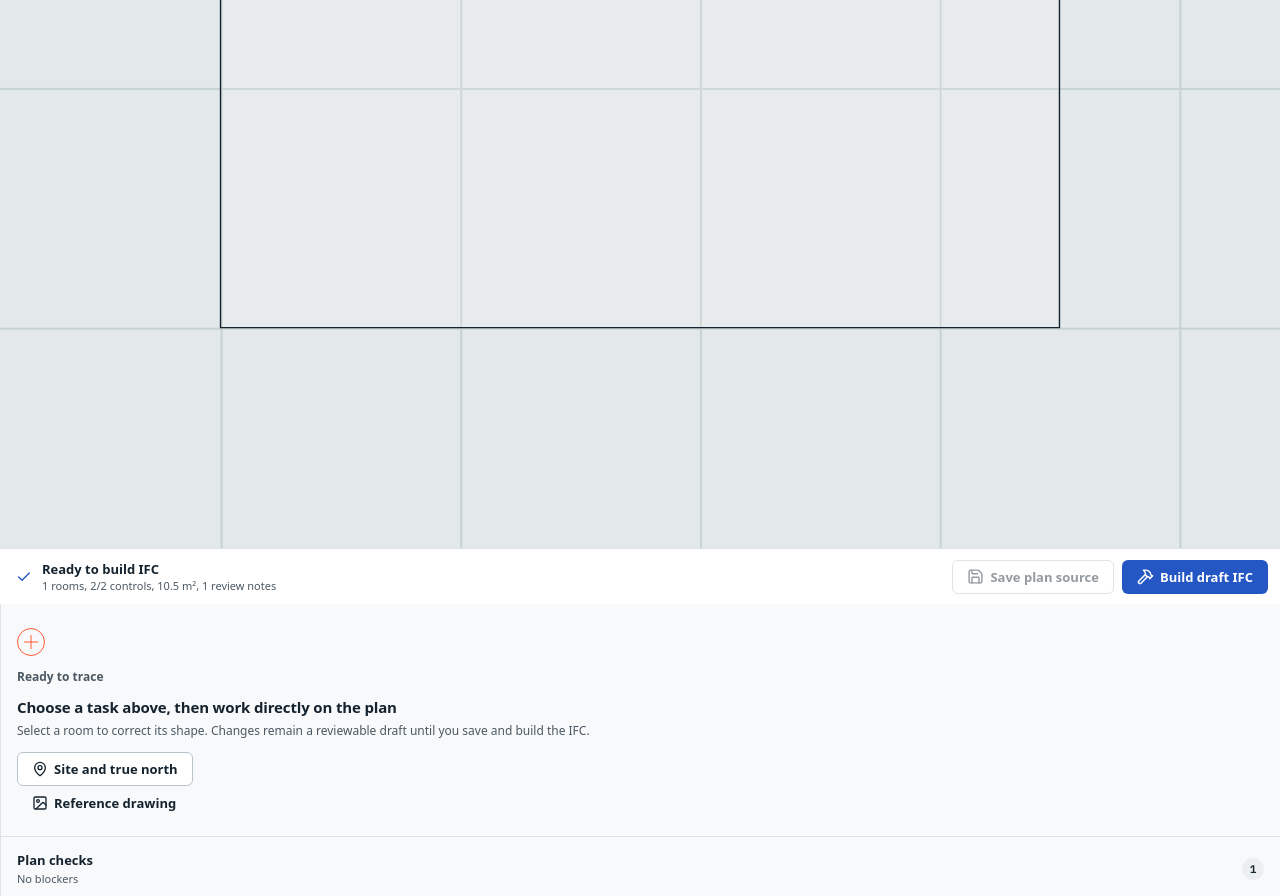
TraceWorkspace › saves an edited site block under the current plan revision, then builds
(page scrolled)
Click the button "Site and true north".
click(105, 769)  # box [17, 752, 193, 786]
(page scrolled)
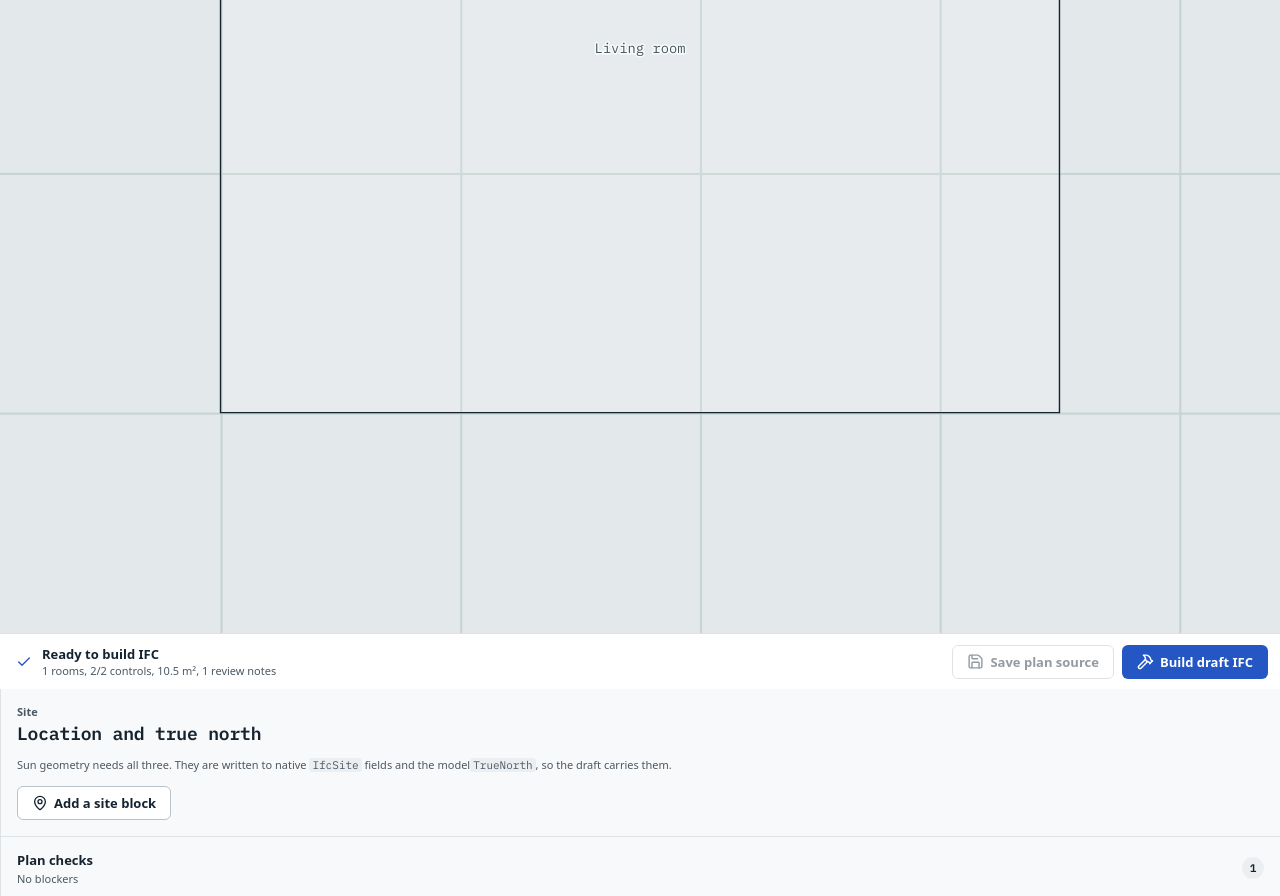
expect the button "Save plan source" is disabled: met, box [952, 645, 1114, 679]
Click the button "Add a site block".
click(94, 802)  # box [17, 786, 171, 820]
(page scrolled)
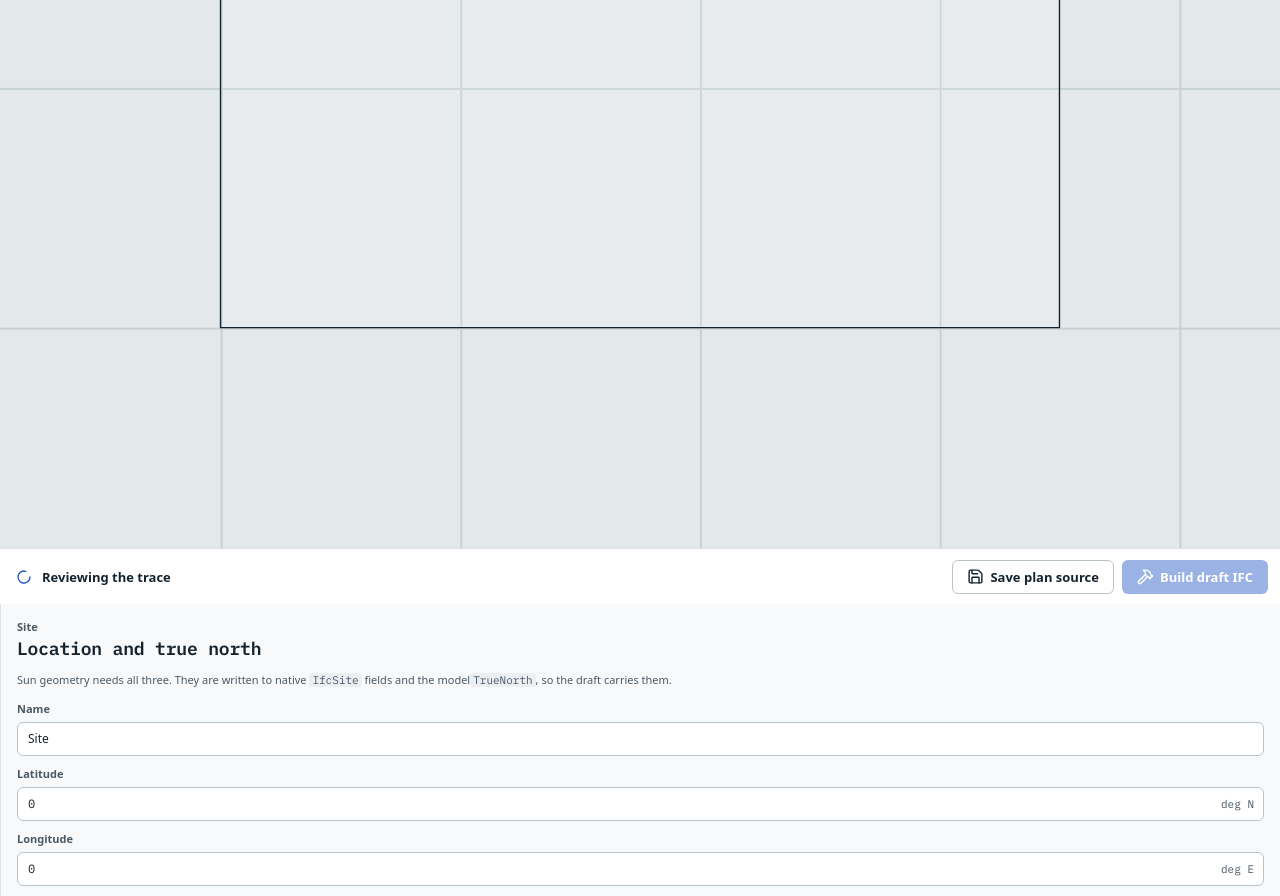
Replace the text in the number field labelled "Latitude deg N" with "51.5" at (640, 804), box [17, 786, 1264, 820]
Replace the text in the number field labelled "Longitude deg E" with "7.25" at (640, 868), box [17, 852, 1264, 886]
(page scrolled)
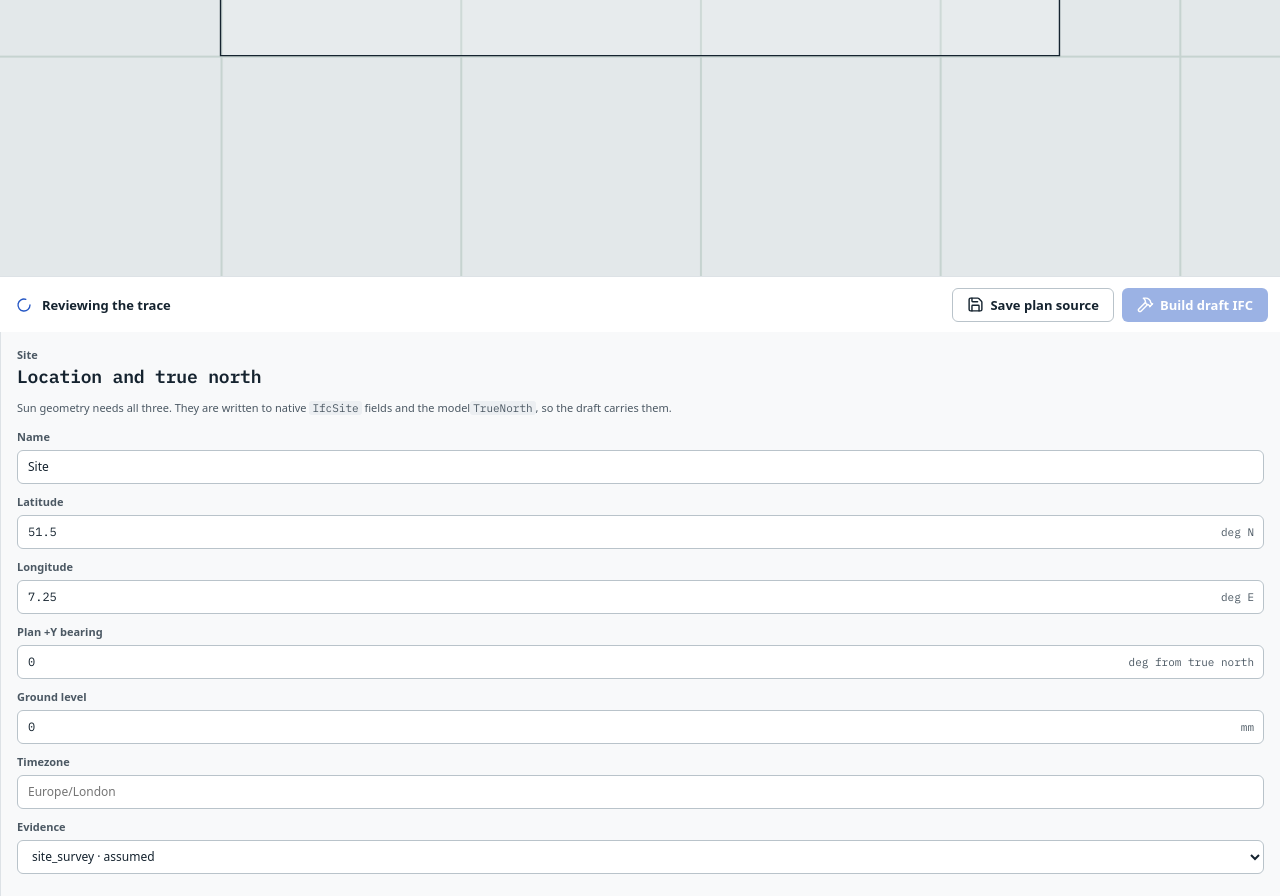
Replace the text in the number field labelled "Plan +Y bearing deg from true north" with "12" at (640, 662), box [17, 644, 1264, 678]
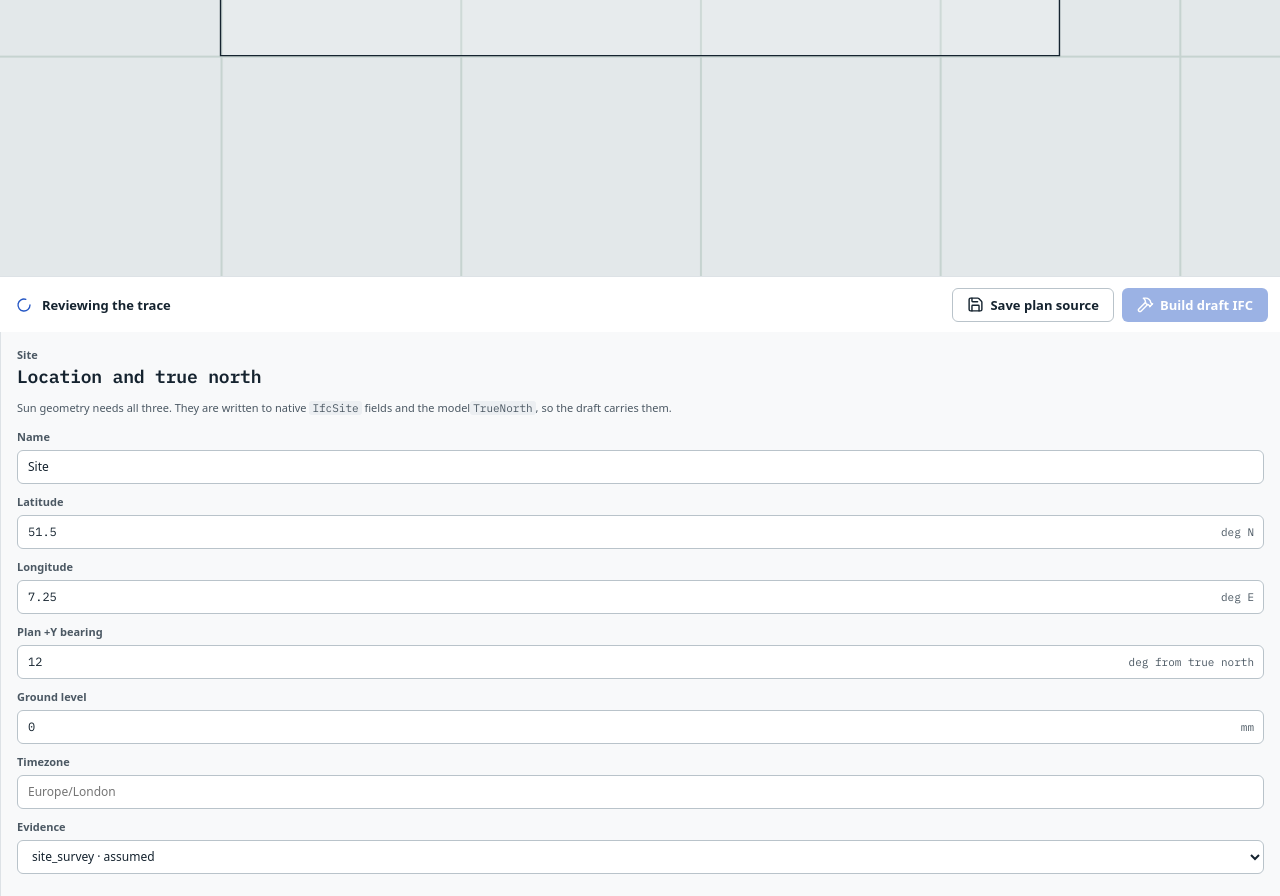
expect the button "Save plan source" is enabled: met
Click the button "Save plan source".
click(1033, 305)  # box [952, 288, 1114, 322]
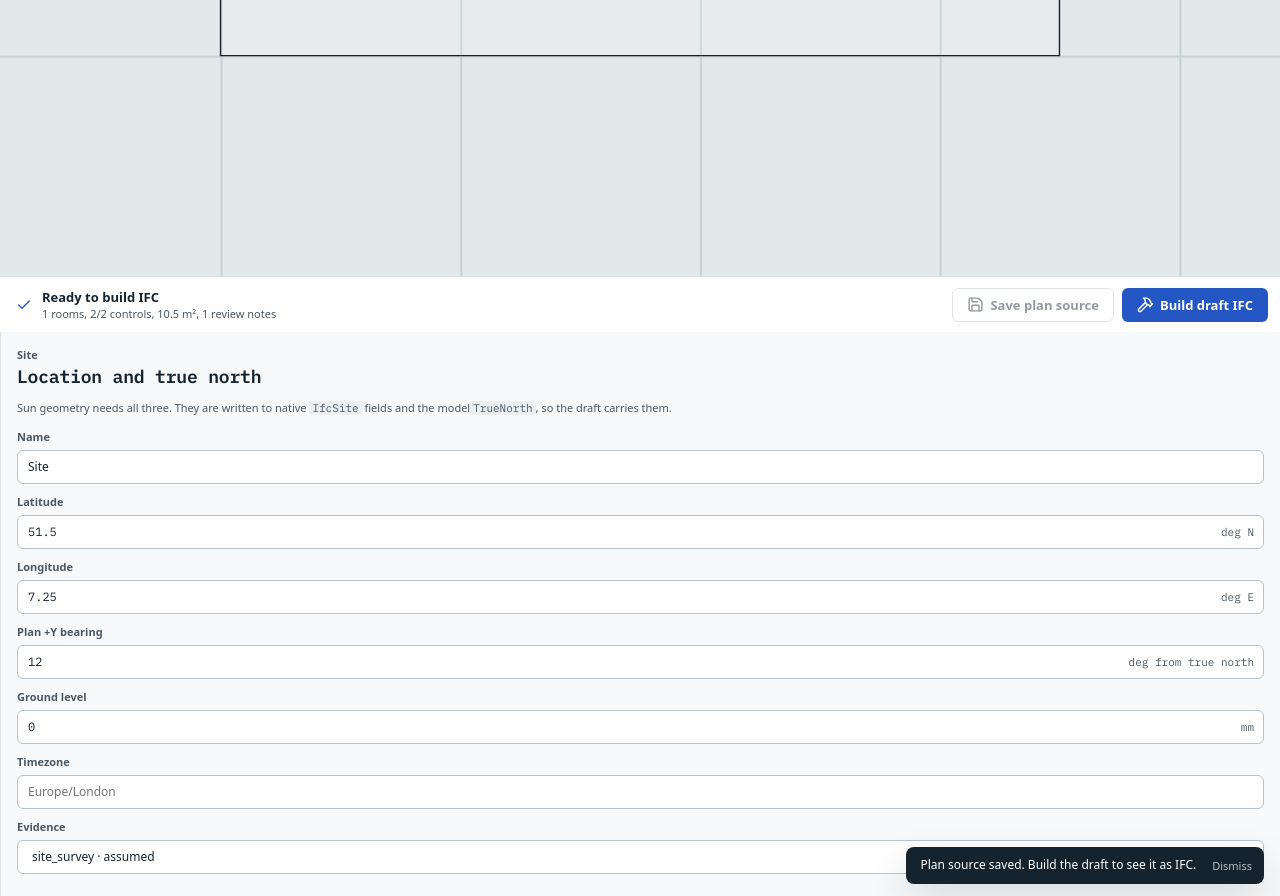
expect the button "Build draft IFC" is enabled: met
Click the button "Build draft IFC".
click(1195, 305)  # box [1122, 288, 1268, 322]
(page scrolled)
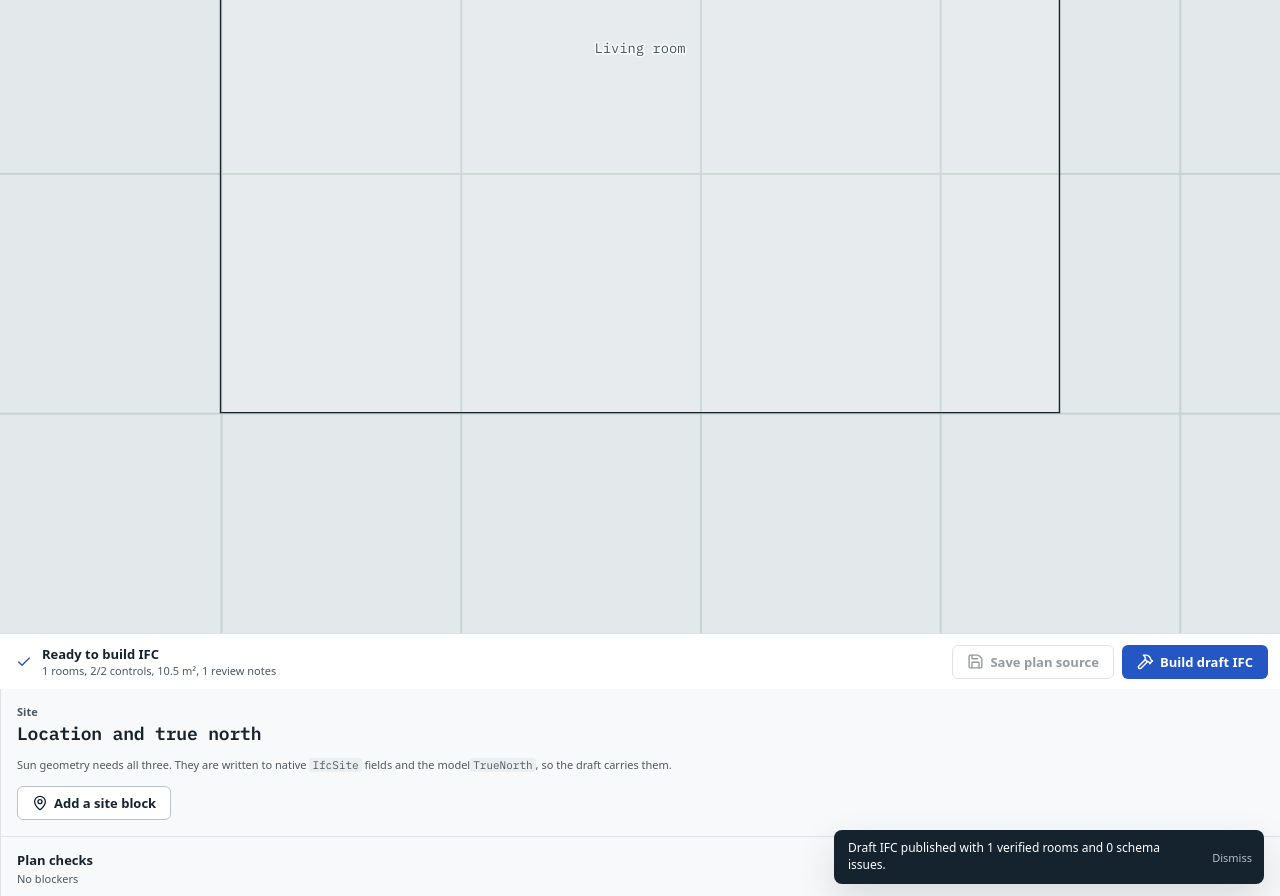
expect the text "Draft IFC published with 1 verified rooms" is shown: met, box [848, 839, 1160, 873]
